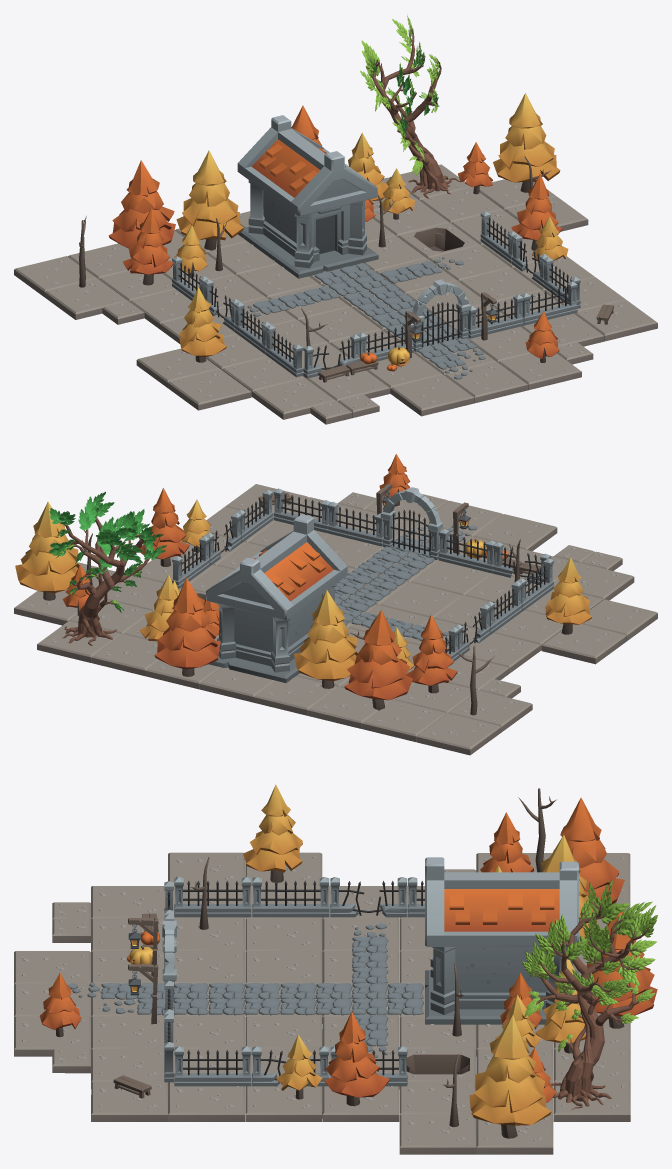
The model's file is background-transformed.glb.
The picture shows the model from 3 angles, top to bottom: view 1: azimuth 30°, elevation 25°; view 2: azimuth 150°, elevation 25°; view 3: azimuth 270°, elevation 25°; orthographic projection. The views are drawn at different scales.
Visible parts, largest first — view 1: pumpkin_orange.002; view 2: pumpkin_orange.002; view 3: pumpkin_orange.002.
Boxes of the visible parts, x1=… form: pumpkin_orange.002: x1=14, y1=14, x2=657, y2=424; pumpkin_orange.002: x1=14, y1=454, x2=657, y2=755; pumpkin_orange.002: x1=14, y1=784, x2=657, y2=1154.
Bounding box in the file's own units: 37.24 × 12.05 × 33.47.
5 materials, 1 textured.
